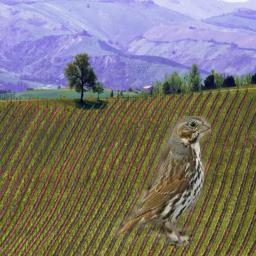Sparrow: (104, 116, 211, 246)
